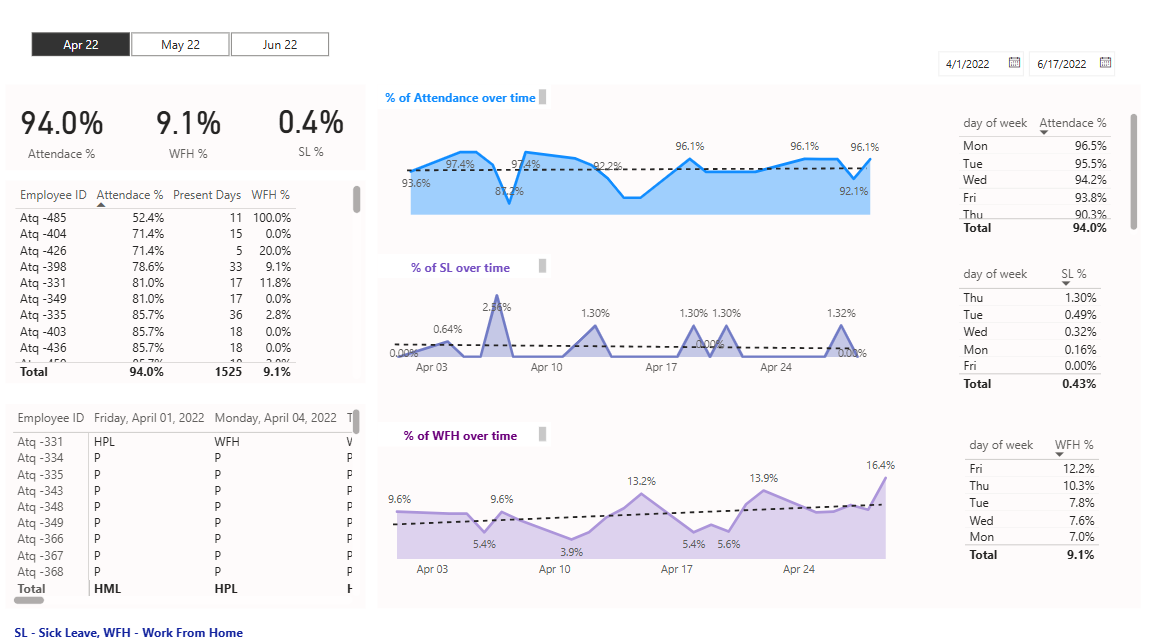

What the dashboard file says about the page in this screenshot:
{"tool":"powerbi","page":{"name":"Presence Insights","canvas":[1280,720],"ordinal":0},"visuals":[{"type":"textbox","box":[7.8,205.6,399.9,225.5],"z":0},{"type":"textbox","box":[7.8,453.3,399.8,227.6],"z":1000},{"type":"textbox","box":[422.3,97.9,848.1,582.3],"z":2000},{"type":"textbox","box":[7.8,98,399.9,95.4],"z":3000},{"type":"tableEx","fields":{"Values":["Final Data.Employee ID","Measures (2).Attendace %","Measures (2).Present Days","Measures (2).WFH %"]},"box":[12.6,205.2,394.9,225.7],"z":4000},{"type":"slicer","fields":{"Values":["Final Data.Date"]},"box":[1032.3,52.5,238.6,44.5],"z":5000},{"type":"slicer","fields":{"Values":["Final Data.MMM YY"]},"box":[11.1,33.4,380.2,35],"z":6000},{"type":"areaChart","fields":{"Category":["Final Data.MMM YY","Final Data.Date"],"Y":["Measures (2).WFH %"]},"box":[420.7,502.3,589,153.5],"z":7000},{"type":"areaChart","fields":{"Category":["Final Data.WeekNo","Final Data.Date"],"Y":["Measures (2).Attendace %"]},"box":[444.1,144.9,540.4,103.2],"z":8000},{"type":"card","fields":{"Values":["Measures (2).Attendace %"]},"box":[7.8,98,124,96.3],"z":9000},{"type":"card","fields":{"Values":["Measures (2).WFH %"]},"box":[141.4,98,138.8,96.3],"z":10000},{"type":"areaChart","fields":{"Category":["Final Data.MMM YY","Final Data.Date"],"Y":["Measures (2).SL %"]},"box":[422.5,307.1,556,124],"z":11000},{"type":"card","fields":{"Values":["Measures (2).SL %"]},"box":[286.3,97.2,121.4,96.3],"z":13000},{"type":"textbox","box":[422.4,98.2,192.5,27.5],"z":15000},{"type":"textbox","box":[422.5,286.3,192.6,26.9],"z":16000},{"type":"textbox","box":[422.1,473.7,192.6,27.2],"z":17000},{"type":"pivotTable","fields":{"Rows":["Final Data.Employee ID"],"Columns":["Final Data.Date"],"Values":["Min(Final Data.Value)"]},"box":[11.7,453.3,395.9,227.6],"z":18000},{"type":"textbox","box":[13.6,691.6,289.8,28.2],"z":19000},{"type":"tableEx","fields":{"Values":["Final Data.day of week","Measures (2).Attendace %"]},"box":[1060.9,125.8,209.9,145.7],"z":20000},{"type":"tableEx","fields":{"Values":["Final Data.day of week","Measures (2).SL %"]},"box":[1060.9,294.1,191.7,167.4],"z":21000},{"type":"tableEx","fields":{"Values":["Final Data.day of week","Measures (2).WFH %"]},"box":[1068.7,483.2,170,167.4],"z":22000}]}

Visuals, with their boxes in screenshot pixels (x1, y1, x2, y2), scaled from the page's 1280x720 canvas onto the 1150x641 screenshot:
textbox: <box>7,183,366,384</box>
textbox: <box>7,404,366,606</box>
textbox: <box>379,87,1141,606</box>
textbox: <box>7,87,366,172</box>
tableEx - Final Data.Employee ID x Measures (2).Attendace %: <box>11,183,366,384</box>
slicer - Final Data.Date: <box>927,47,1142,86</box>
slicer - Final Data.MMM YY: <box>10,30,352,61</box>
areaChart - Final Data.MMM YY x Final Data.Date: <box>378,447,907,584</box>
areaChart - Final Data.WeekNo x Final Data.Date: <box>399,129,885,221</box>
card - Measures (2).Attendace %: <box>7,87,118,173</box>
card - Measures (2).WFH %: <box>127,87,252,173</box>
areaChart - Final Data.MMM YY x Final Data.Date: <box>380,273,879,384</box>
card - Measures (2).SL %: <box>257,87,366,172</box>
textbox: <box>380,87,552,112</box>
textbox: <box>380,255,553,279</box>
textbox: <box>379,422,552,446</box>
pivotTable - Final Data.Employee ID x Final Data.Date: <box>11,404,366,606</box>
textbox: <box>12,616,273,640</box>
tableEx - Final Data.day of week x Measures (2).Attendace %: <box>953,112,1142,242</box>
tableEx - Final Data.day of week x Measures (2).SL %: <box>953,262,1125,411</box>
tableEx - Final Data.day of week x Measures (2).WFH %: <box>960,430,1113,579</box>
